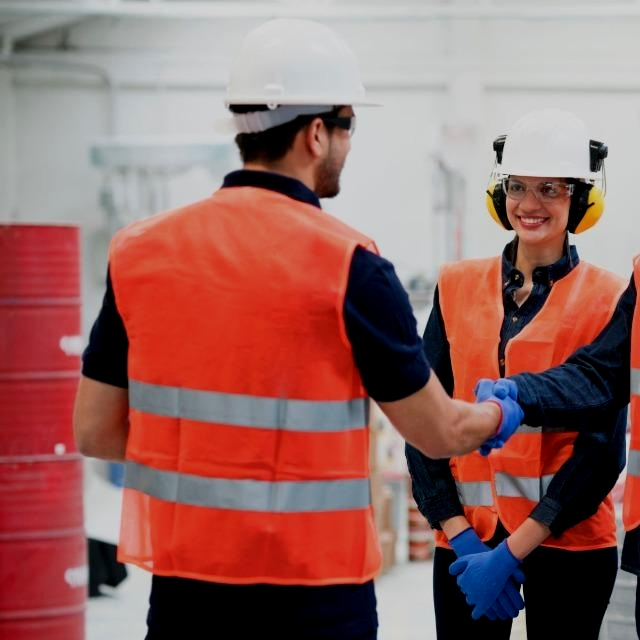Con_Chaleco: (103, 196, 381, 591), (427, 254, 632, 545)
